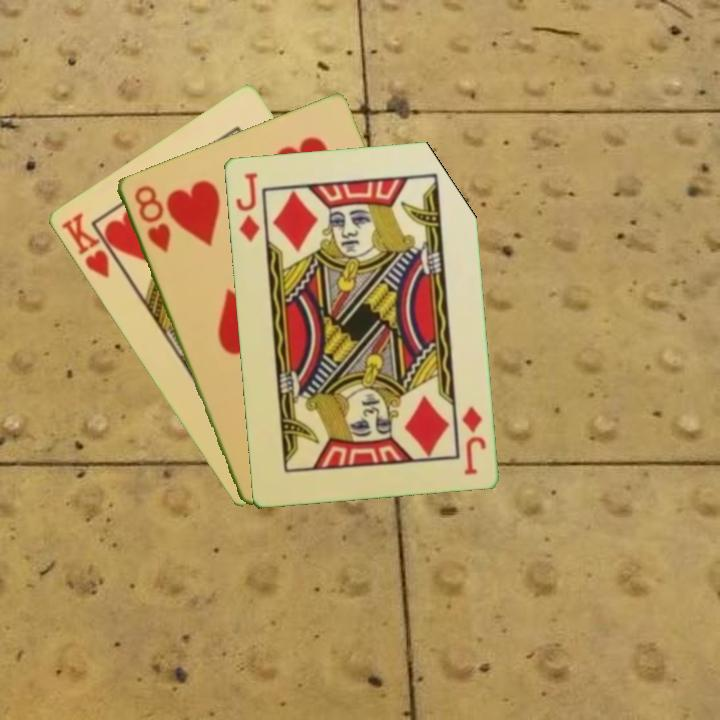8h: (130, 181, 173, 255)
Jd: (231, 168, 262, 244), (458, 402, 488, 478)
Kh: (57, 209, 126, 281)
